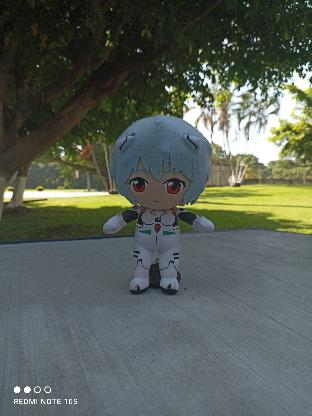rei-plush: (93, 110, 229, 306)
